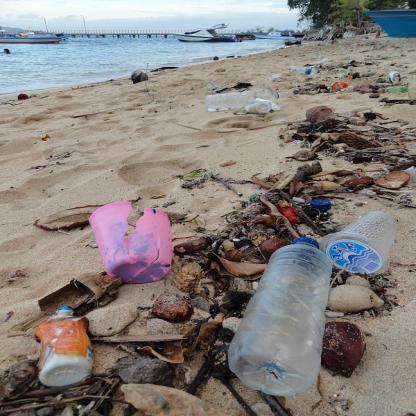Plastic: (223, 233, 339, 400), (83, 200, 180, 283), (30, 304, 98, 388), (328, 214, 406, 278), (204, 88, 274, 113)
